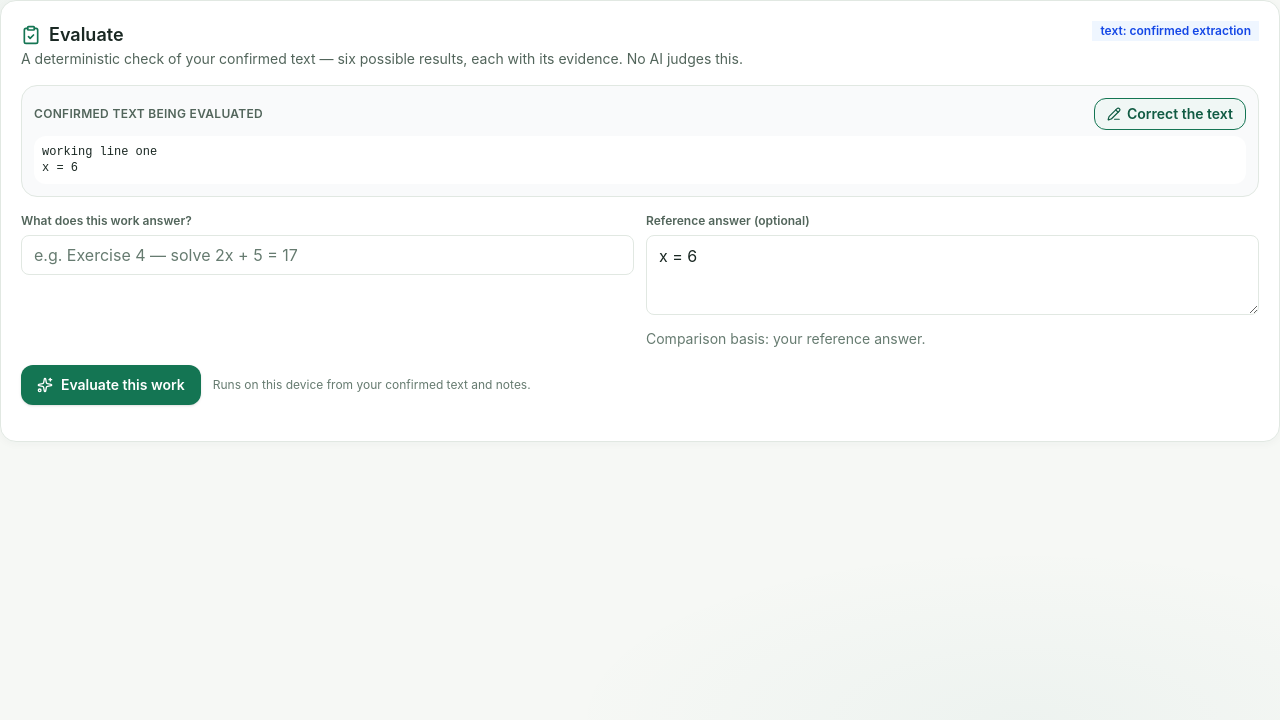
EvaluationPanel › evaluates against a reference and splits observed facts from inference
Expected: the text with test id "confirmed-text-summary" shows "x = 6", [42,145,157,175]
Click the button with test id "evaluate-button" at (111, 385), box [21,365,201,405]
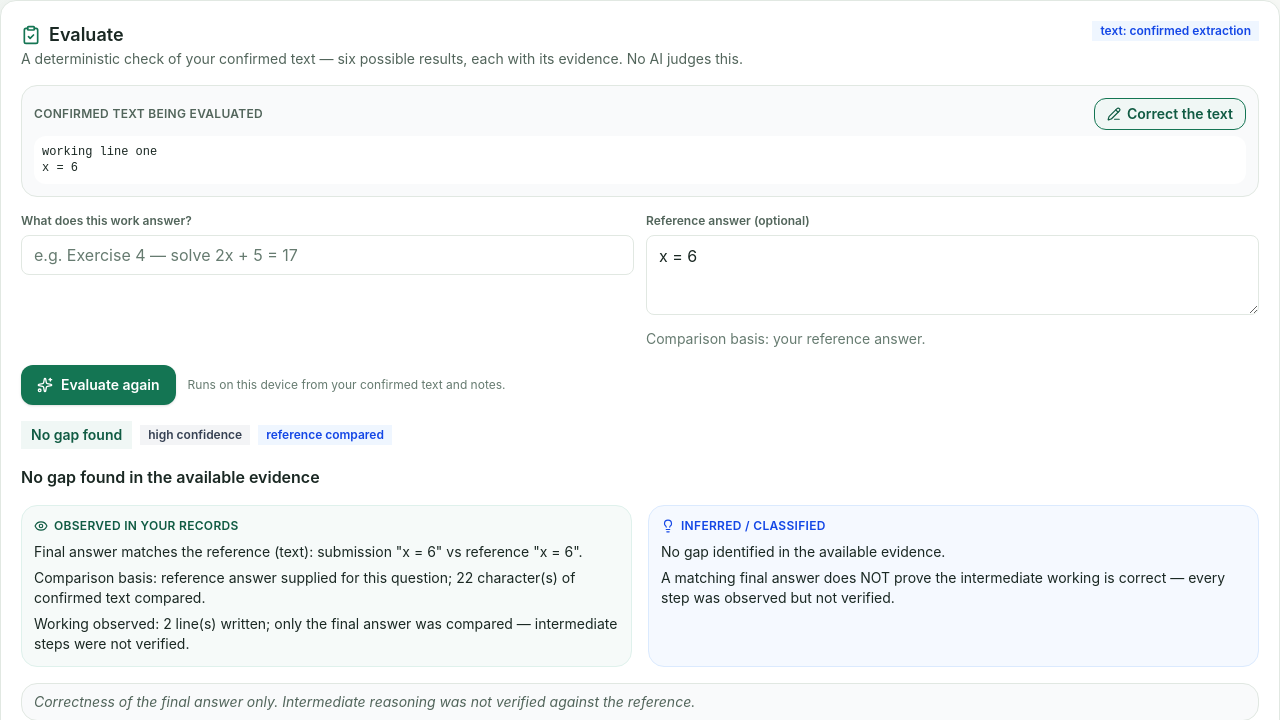
Result: the text with test id "evaluation-outcome" reads "No gap found" at [31,426,122,443]
Result: the text with test id "evaluation-confidence" reads "high confidence" at [148,427,242,442]
Result: the element with test id "evaluation-observed" shows "matches the reference" at [34,543,583,560]
